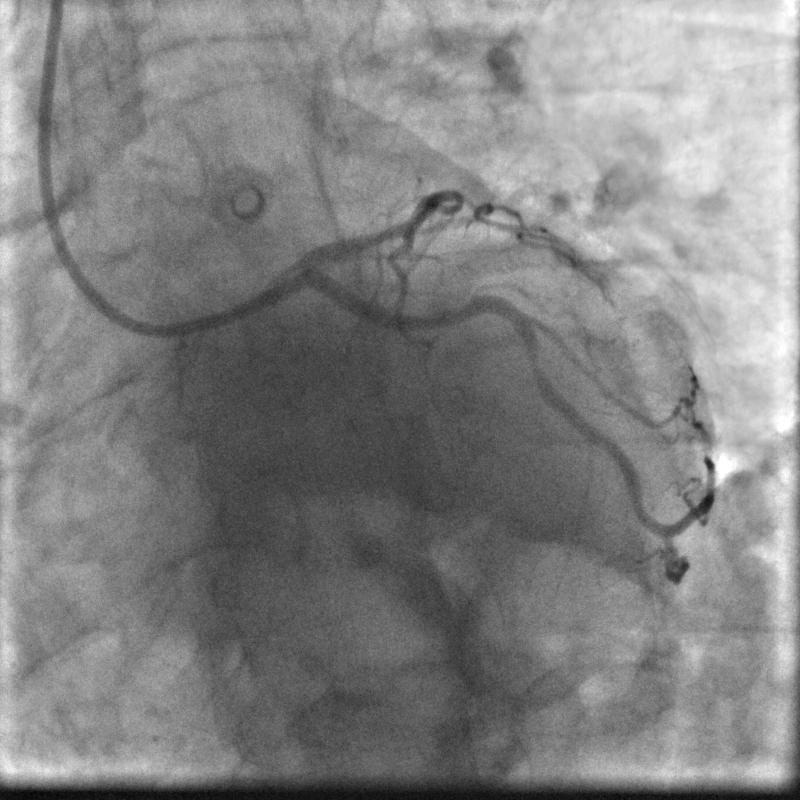Stenosis: (527, 347, 543, 373)
